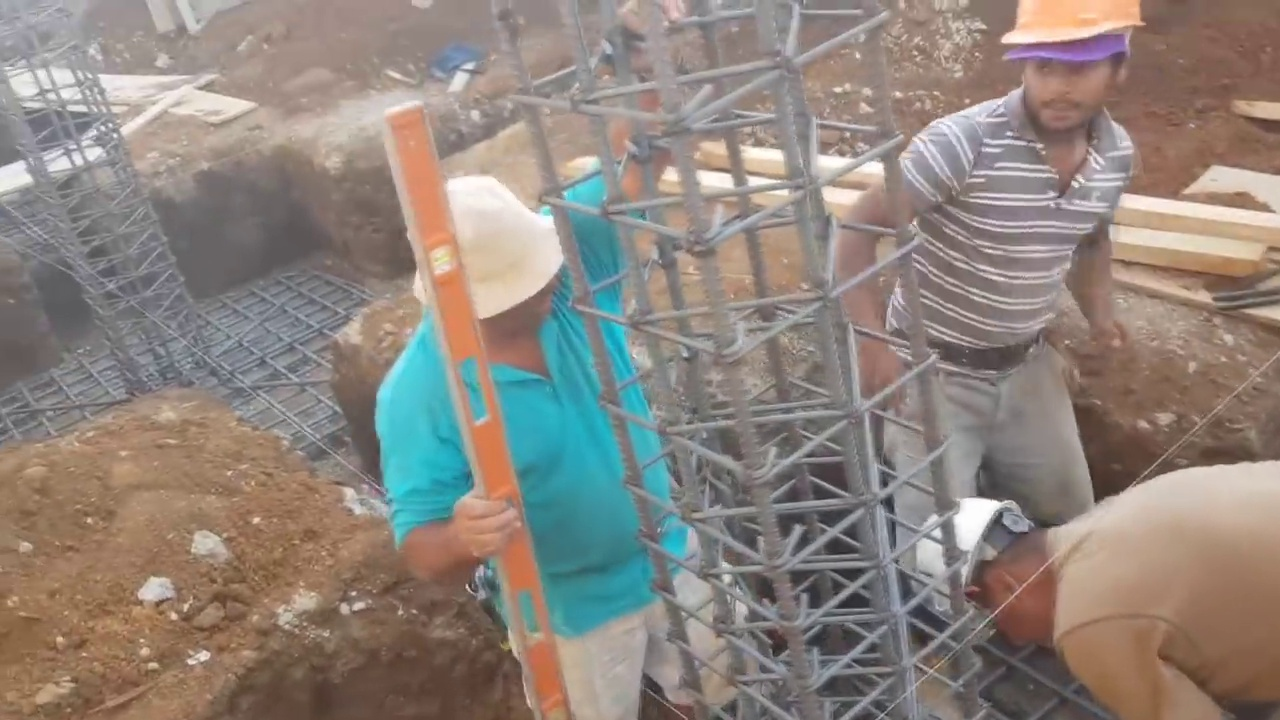helmet: (913, 491, 1018, 618), (999, 0, 1148, 72)
helmet-off: (420, 168, 563, 354)
helmet-on: (908, 492, 1098, 642), (997, 7, 1144, 130)
person: (345, 11, 701, 718), (827, 0, 1181, 657), (870, 468, 1280, 720)
